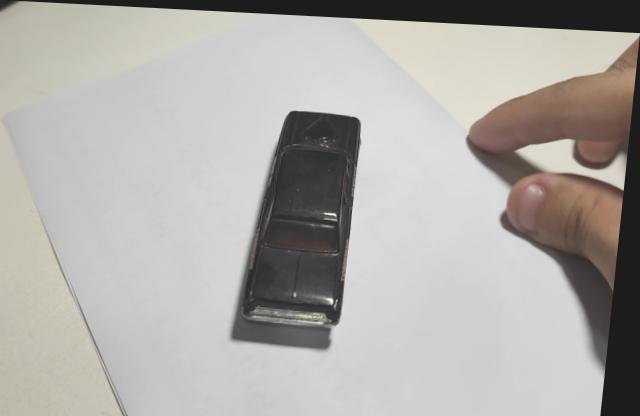01_FORD: (245, 109, 363, 325)
